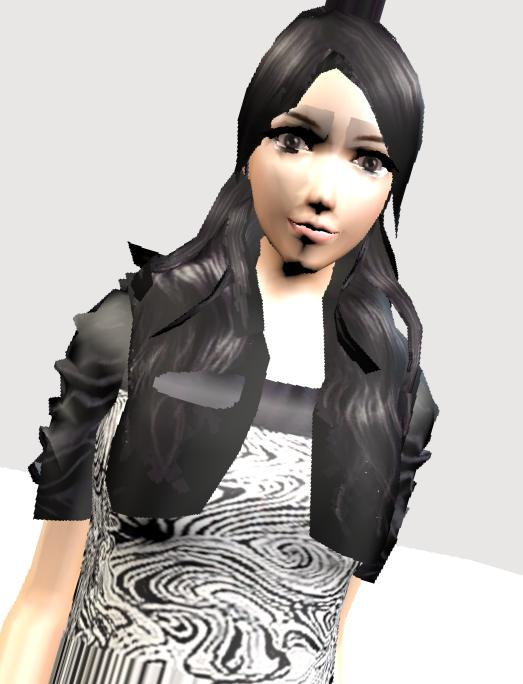clip: (150, 360, 240, 412)
